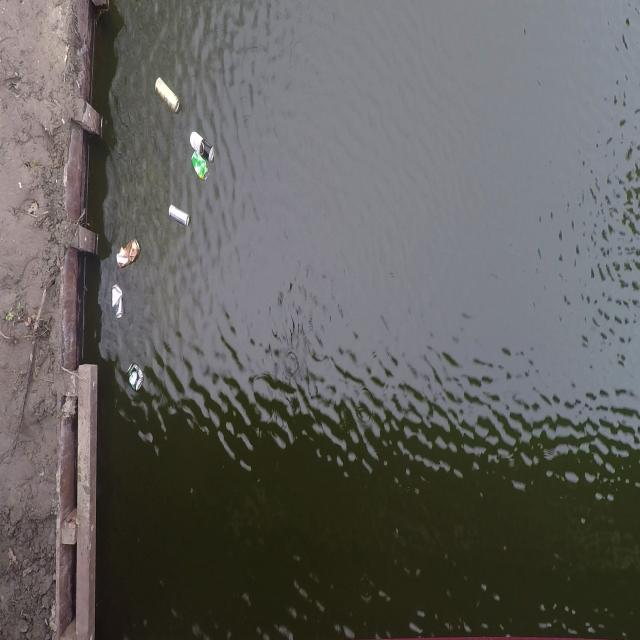Non plastique: (180, 121, 229, 170), (184, 146, 217, 194), (152, 72, 184, 118), (114, 235, 144, 273), (126, 358, 148, 402), (166, 201, 193, 234), (109, 282, 128, 326)
